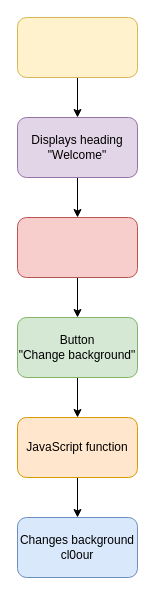
Image size: 155x595. Some labels were removed from this diagram. Here are the shapes that lost their labels. From the top down, the centre of each, then its label:
At point (77, 47): "Webpage loads".
At point (77, 247): "CSS applies styling to page Centre text styling button, etc".
